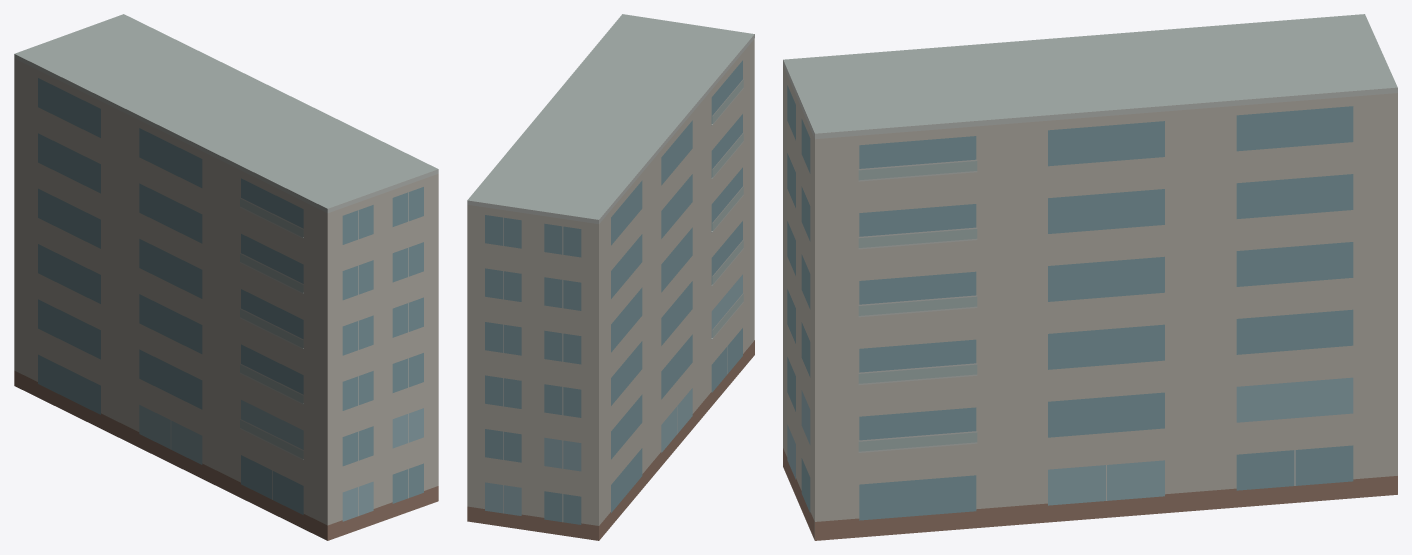
Rendered from survey-upis-32595015.glb.
3 renders of one model, left to right at view 1: azimuth 30°, elevation 25°; view 2: azimuth 150°, elevation 25°; view 3: azimuth 270°, elevation 25°, orthographic. The views are drawn at different scales.
Visible parts, largest first — view 1: survey-upis-32595015.tmp; view 2: survey-upis-32595015.tmp; view 3: survey-upis-32595015.tmp.
Boxes of the visible parts, x1,y1,x2,y2 form: survey-upis-32595015.tmp: (14, 14, 438, 540); survey-upis-32595015.tmp: (467, 14, 754, 540); survey-upis-32595015.tmp: (783, 14, 1397, 540).
Size of the model in its own units: 11.42 by 18.1 by 24.78.
